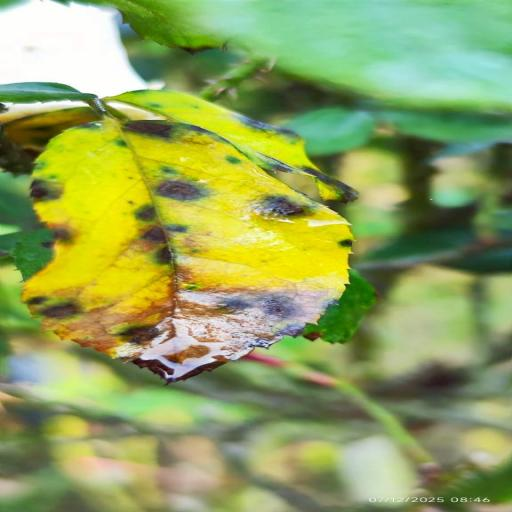black_spot: (23, 119, 350, 382), (105, 90, 356, 202), (0, 107, 99, 179)
